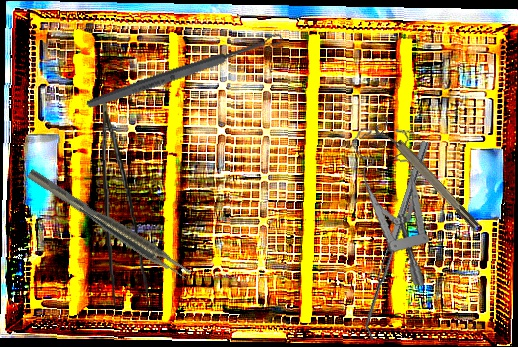Fixation Ring: (371, 116, 482, 236)
Spatula Surgical: (358, 140, 437, 341)
Speculum: (335, 123, 445, 286)
Surgical Spoon: (84, 31, 285, 112)
Tissue Forceps: (26, 163, 193, 284), (100, 94, 149, 312)
